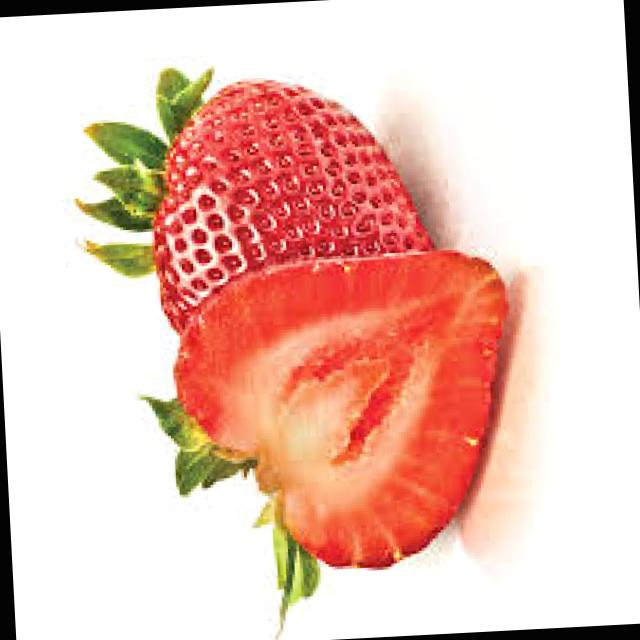strawberry: (195, 224, 540, 604), (117, 64, 442, 354)
